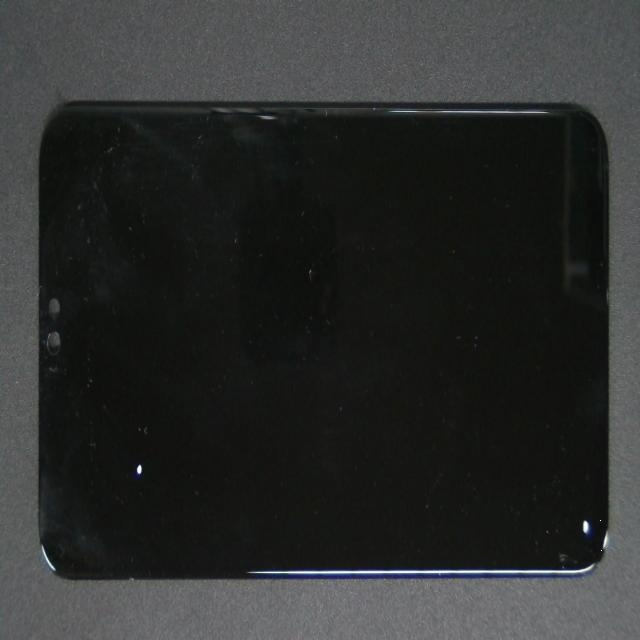stain: (284, 244, 640, 640), (53, 212, 180, 640)
